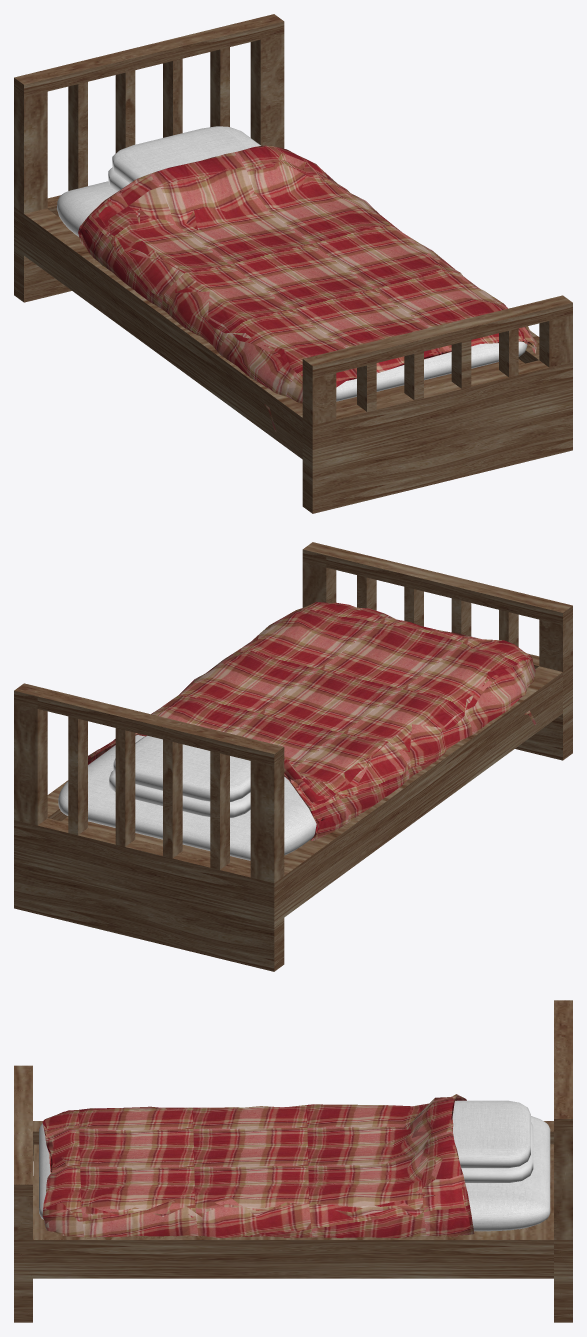
The model's file is cama2.glb.
The picture shows the model from 3 angles, top to bottom: view 1: azimuth 30°, elevation 25°; view 2: azimuth 150°, elevation 25°; view 3: azimuth 270°, elevation 25°; orthographic projection. The views are drawn at different scales.
Parts seen in each view (by area): view 1: Bedstead, Duvet, Piillow 1, Matress; view 2: Bedstead, Duvet, Matress, Piillow 1, Pillow 2; view 3: Duvet, Bedstead, Matress, Piillow 1, Pillow 2.
Boxes of the visible parts, left/top/right/bottom form: Bedstead: left=14, top=14, right=572, bottom=513; Duvet: left=78, top=145, right=537, bottom=431; Piillow 1: left=112, top=126, right=260, bottom=182; Matress: left=57, top=181, right=527, bottom=401; Bedstead: left=14, top=542, right=572, bottom=971; Duvet: left=88, top=601, right=536, bottom=840; Matress: left=58, top=735, right=316, bottom=860; Piillow 1: left=113, top=735, right=250, bottom=801; Pillow 2: left=109, top=770, right=250, bottom=818; Duvet: left=42, top=1094, right=474, bottom=1237; Bedstead: left=14, top=1000, right=572, bottom=1322; Matress: left=39, top=1116, right=550, bottom=1231; Piillow 1: left=452, top=1100, right=530, bottom=1168; Pillow 2: left=461, top=1122, right=533, bottom=1182.
Size of the model in its own units: 19.66 by 15.69 by 39.03.
3 materials, 3 textured.
